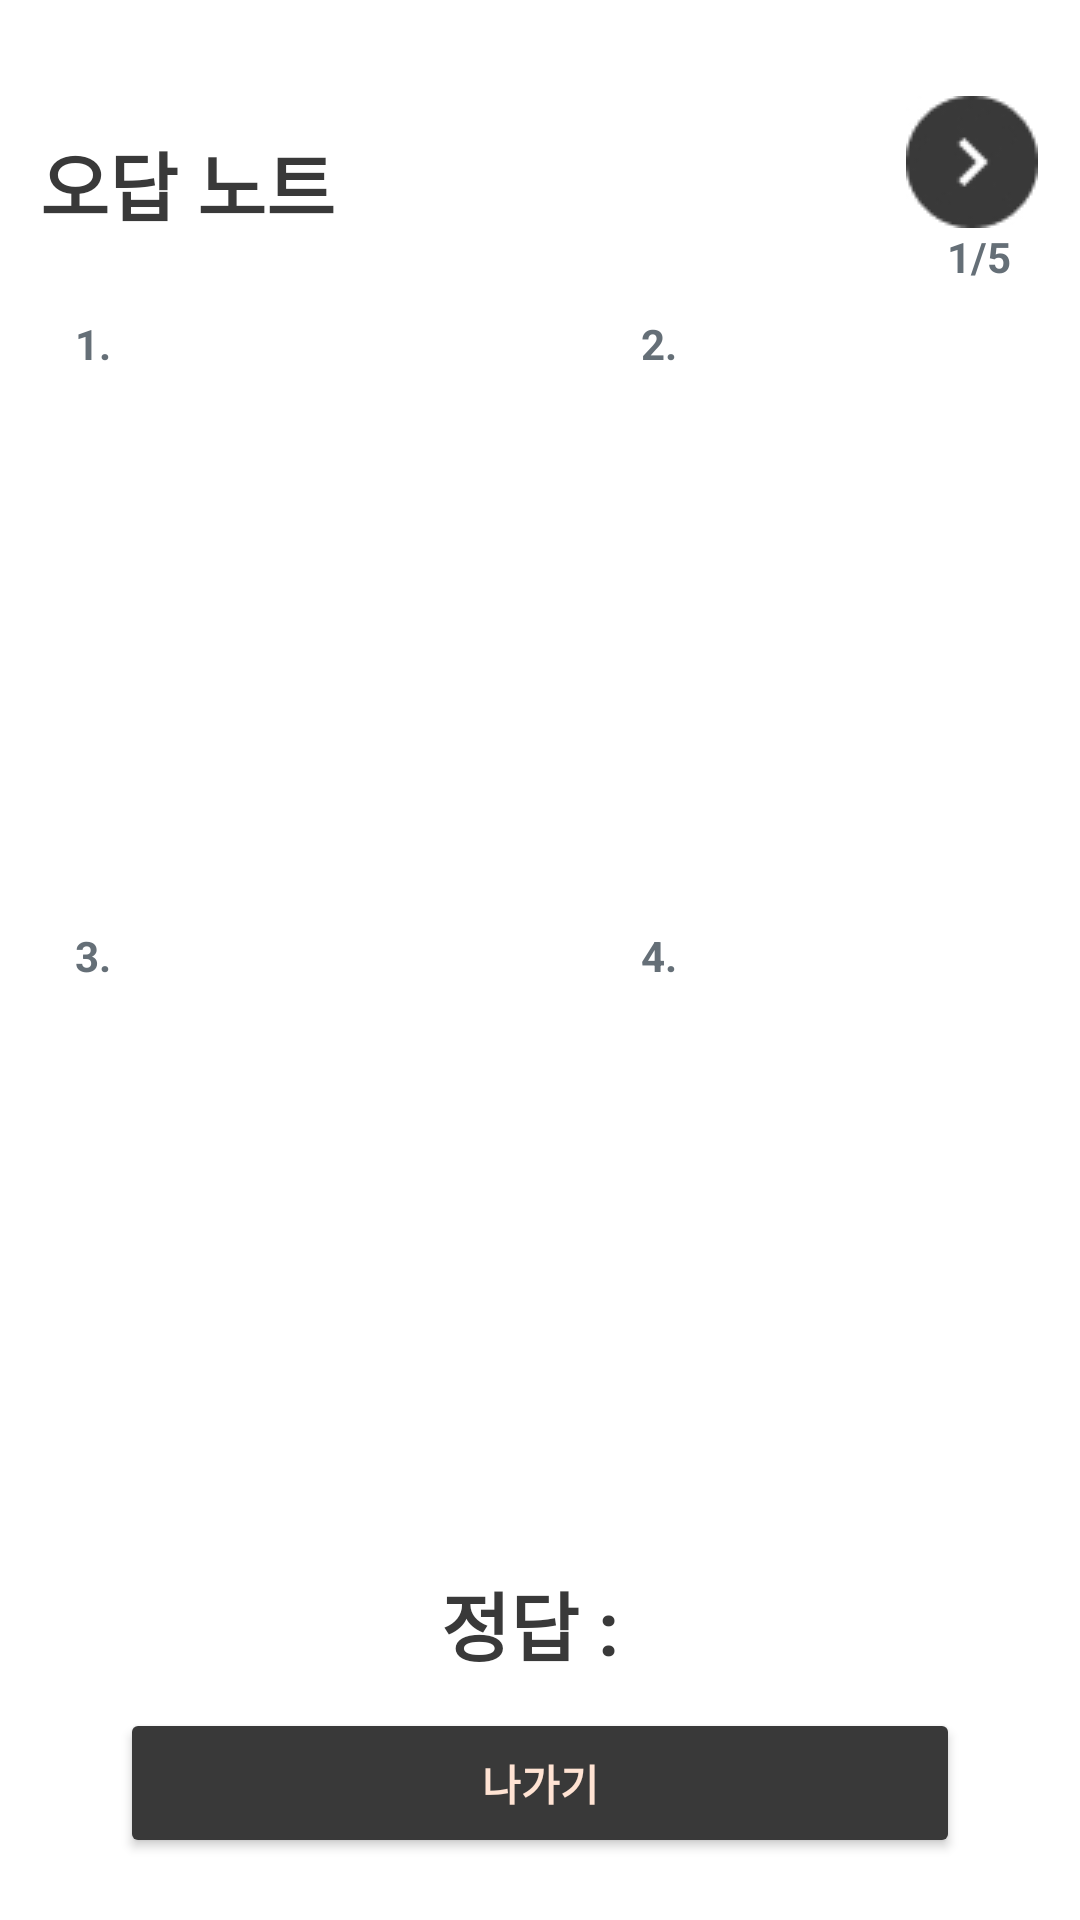

Screen size 1080x1920. Icon name, then its center in pixels as [x,y]:
arrow: [972,162]
